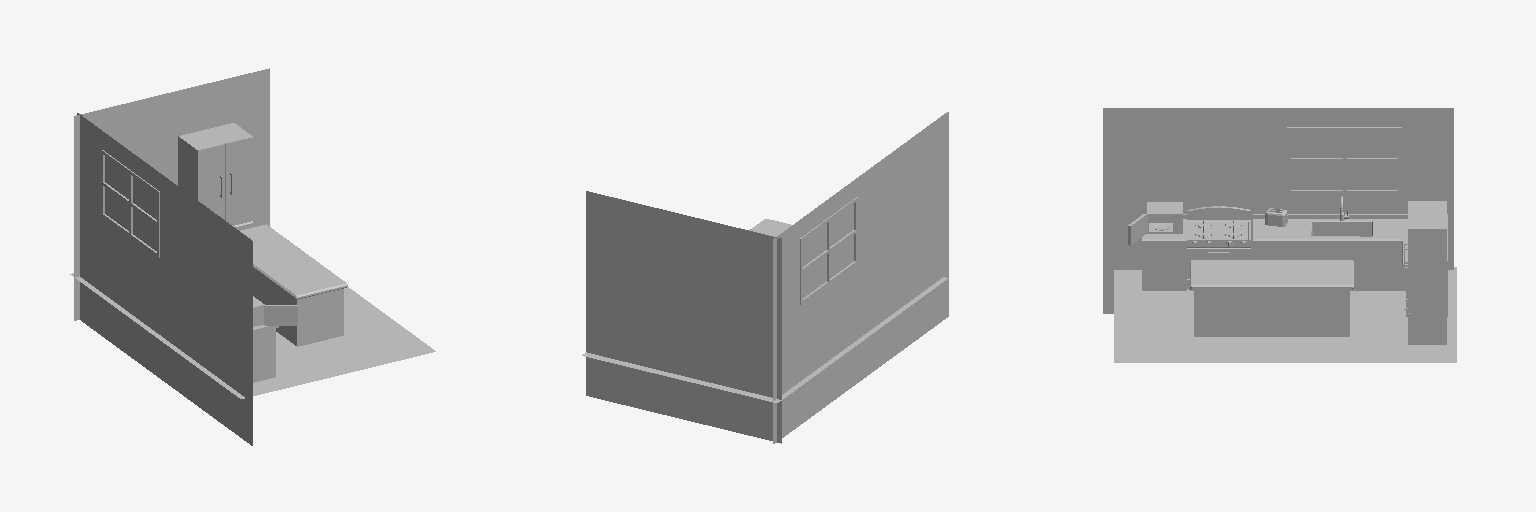
The model's file is kitchenmap9.obj.
3 renders of one model, left to right at view 1: azimuth 30°, elevation 25°; view 2: azimuth 150°, elevation 25°; view 3: azimuth 270°, elevation 25°, orthographic.
Parts seen in each view (by area): view 1: Left_Wall, Right_Wall, Floor, Island, Fridge, Plane, Window_Frame, Counter_Left, Microwave_Door; view 2: Right_Wall, Left_Wall, Plane, Floor, Window_Frame; view 3: Left_Wall, Floor, Island, Counter_Corner, Plane, Fridge, Oven, Counter_Left, Window_Frame, Microwave, Sink_Basin.
Boxes of the visible parts, x1=… form: Left_Wall: x1=77, y1=113, x2=252, y2=445; Right_Wall: x1=74, y1=68, x2=269, y2=320; Floor: x1=70, y1=273, x2=435, y2=398; Island: x1=240, y1=224, x2=347, y2=346; Fridge: x1=178, y1=123, x2=253, y2=230; Plane: x1=105, y1=156, x2=156, y2=250; Window_Frame: x1=101, y1=150, x2=159, y2=257; Counter_Left: x1=253, y1=325, x2=278, y2=382; Microwave_Door: x1=264, y1=305, x2=297, y2=325; Right_Wall: x1=586, y1=191, x2=781, y2=443; Left_Wall: x1=773, y1=112, x2=948, y2=443; Plane: x1=803, y1=204, x2=853, y2=297; Floor: x1=582, y1=277, x2=947, y2=402; Window_Frame: x1=800, y1=197, x2=857, y2=304; Left_Wall: x1=1103, y1=108, x2=1453, y2=313; Floor: x1=1114, y1=267, x2=1456, y2=362; Island: x1=1190, y1=260, x2=1353, y2=336; Counter_Corner: x1=1253, y1=214, x2=1447, y2=316; Plane: x1=1291, y1=131, x2=1397, y2=189; Fridge: x1=1408, y1=201, x2=1446, y2=344; Oven: x1=1187, y1=206, x2=1250, y2=290; Counter_Left: x1=1142, y1=214, x2=1186, y2=290; Window_Frame: x1=1287, y1=127, x2=1401, y2=193; Microwave: x1=1147, y1=202, x2=1182, y2=233; Sink_Basin: x1=1311, y1=221, x2=1372, y2=236.
Bounding box in the file's own units: 56.58 × 56.6 × 88.43.